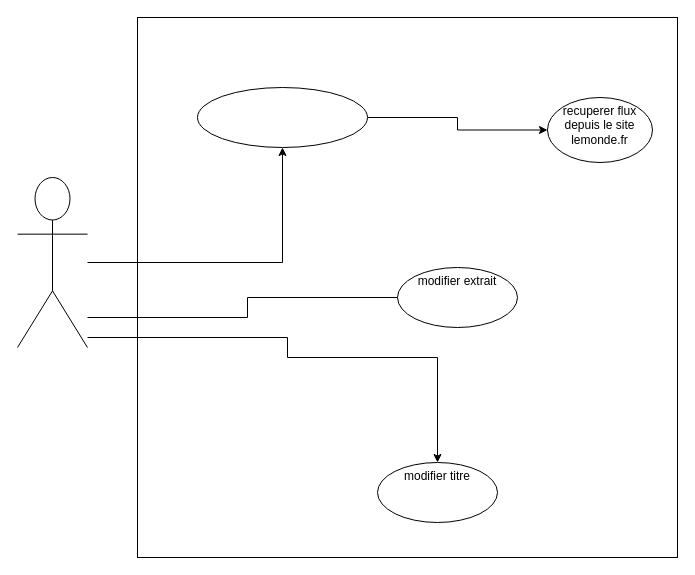
Image size: 695x575. Some labels were removed from this diagram. Here are the shapes that lost their labels. From the top down, the centre of each, then its label:
At [282,117]: "afficher flux avec pagination".
At [52,262]: "Actor".
